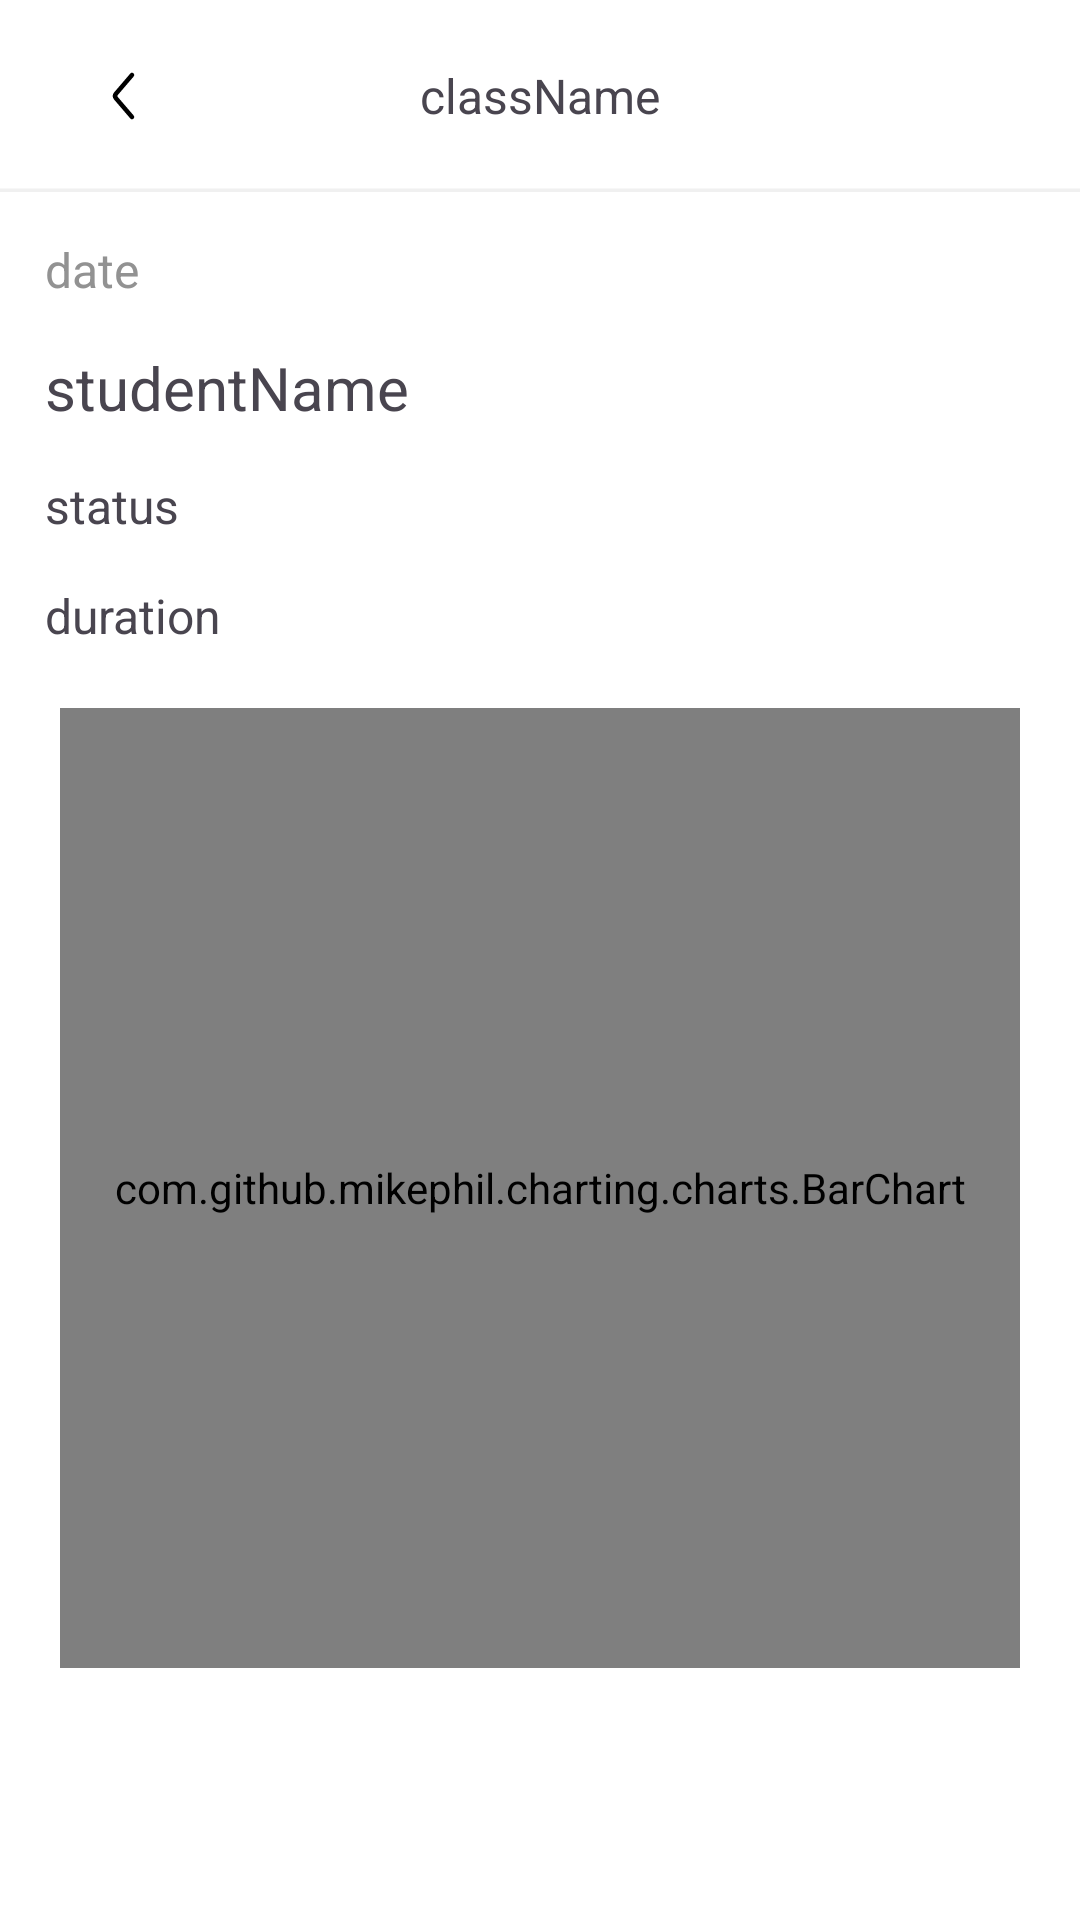

Icon bounding boxes for this 1080px×1920px phone screenshot, format {"left": x1, "top": y1, "right": x2, "bottom": y2}:
To back page button: {"left": 112, "top": 72, "right": 135, "bottom": 120}
